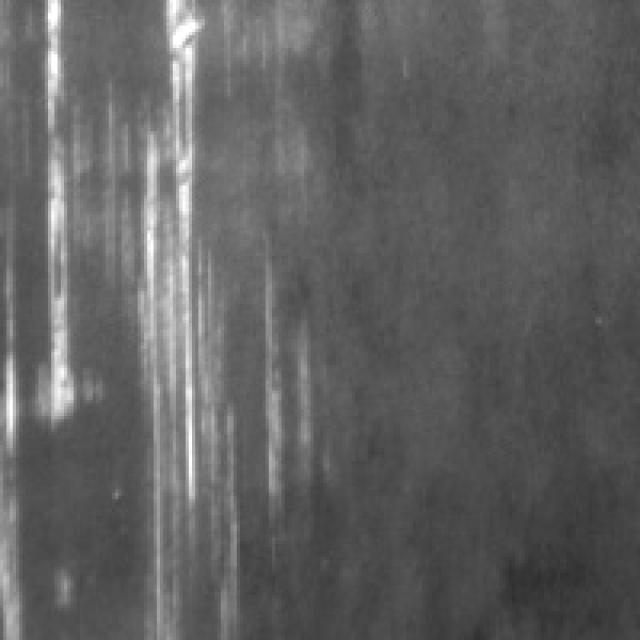scratches: (138, 0, 236, 579), (35, 0, 106, 426)
